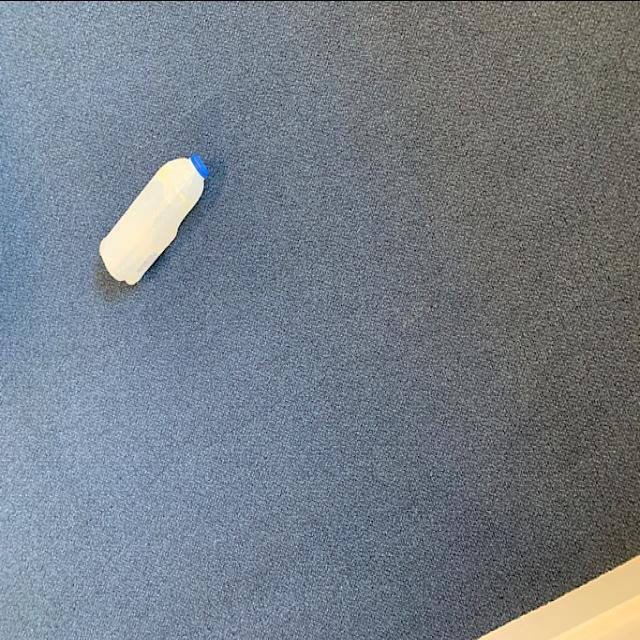HDPEM: (99, 150, 211, 288)
